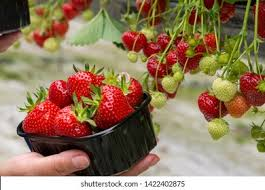ripe: (87, 83, 134, 126), (21, 101, 61, 137), (55, 105, 90, 137), (66, 70, 104, 99), (197, 87, 228, 122), (237, 70, 264, 108), (175, 39, 202, 69), (46, 79, 74, 105), (226, 91, 250, 120), (124, 74, 144, 107), (147, 53, 169, 78), (121, 31, 145, 53), (32, 23, 53, 46), (50, 20, 70, 38), (203, 31, 219, 51), (156, 31, 171, 47), (146, 42, 163, 56)
unripe: (212, 76, 238, 102), (207, 118, 229, 141), (198, 54, 216, 77), (161, 74, 177, 94), (150, 91, 166, 108), (43, 35, 59, 52), (249, 123, 264, 139), (141, 25, 156, 39), (217, 49, 230, 65), (126, 50, 137, 63), (171, 63, 182, 74), (256, 139, 264, 153), (174, 71, 184, 81), (187, 38, 196, 47), (186, 48, 194, 56)
